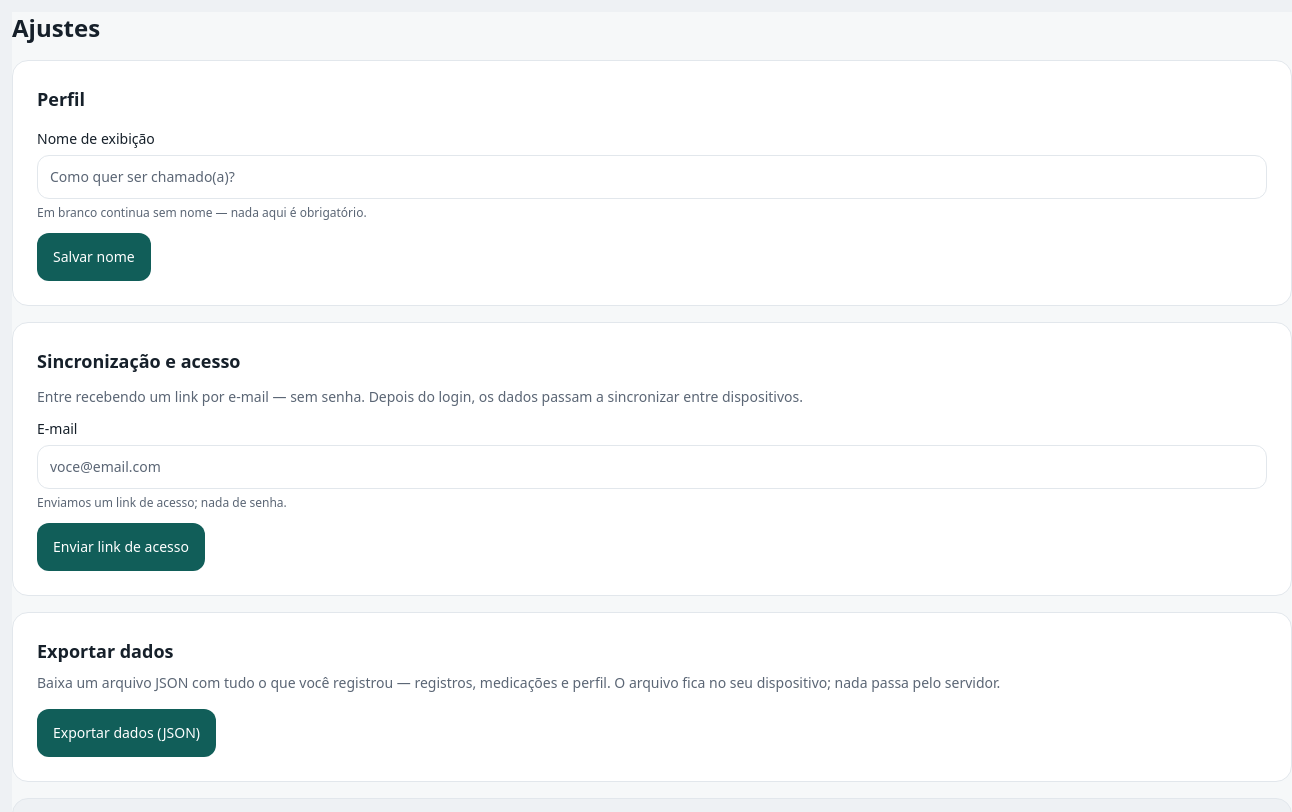
Test case: SettingsPage › envia o magic link quando o remoto está configurado
This screenshot has width=1292, height=812.
Type "pessoa@example.com" into the field labelled "E-mail". click: (652, 467)
box: x1=37 y1=445 x2=1267 y2=489
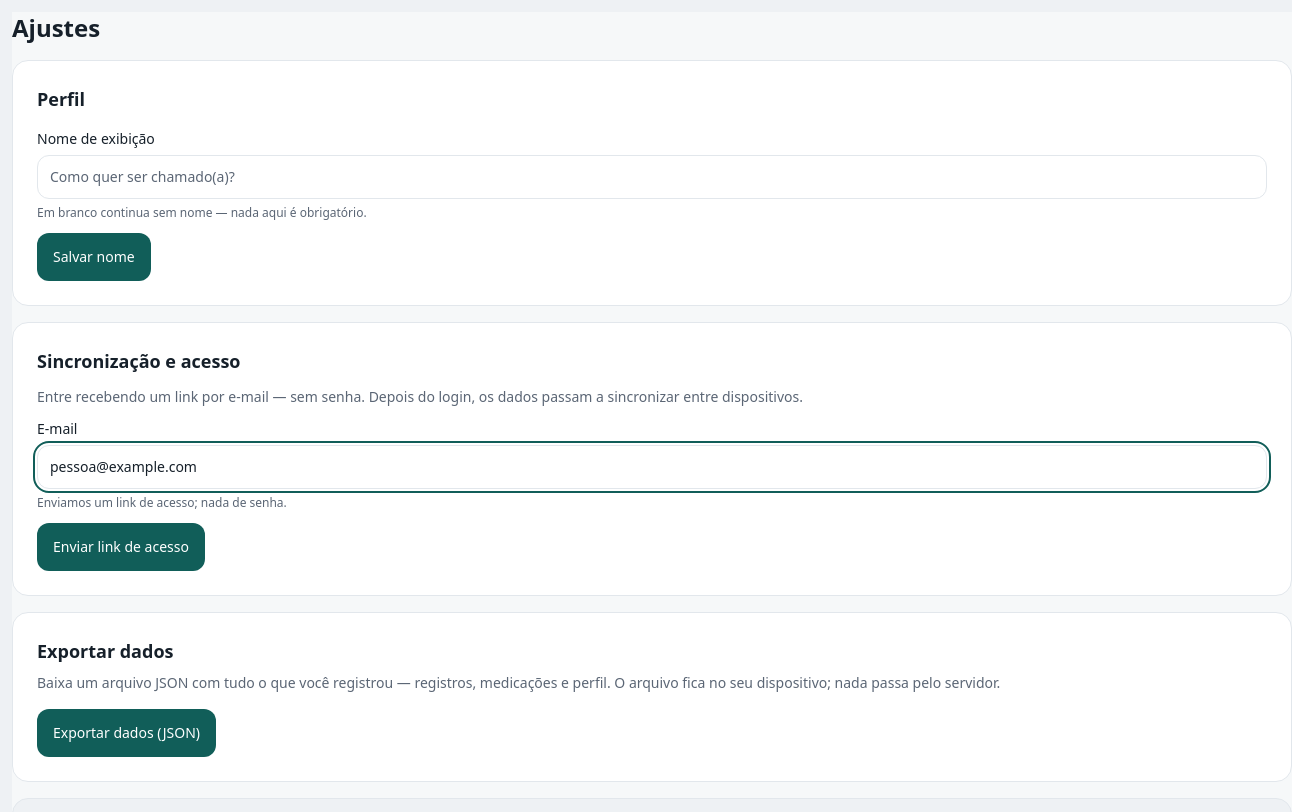
Click the button "Enviar link de acesso". click: click(121, 547)
box: x1=37 y1=523 x2=205 y2=571
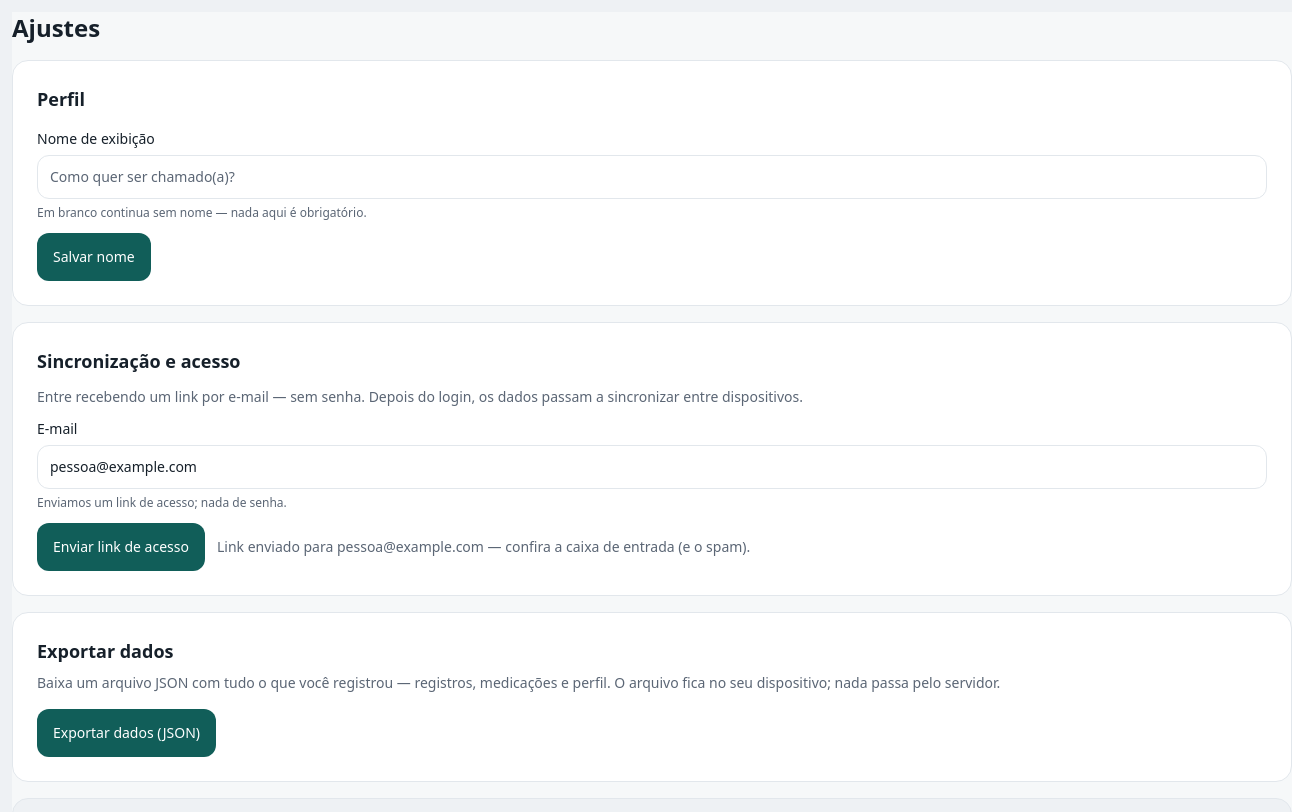
Result: the text "Link enviado para pessoa@example.com — confira a caixa de entrada (e o spam)." is shown at x1=217 y1=537 x2=750 y2=557
